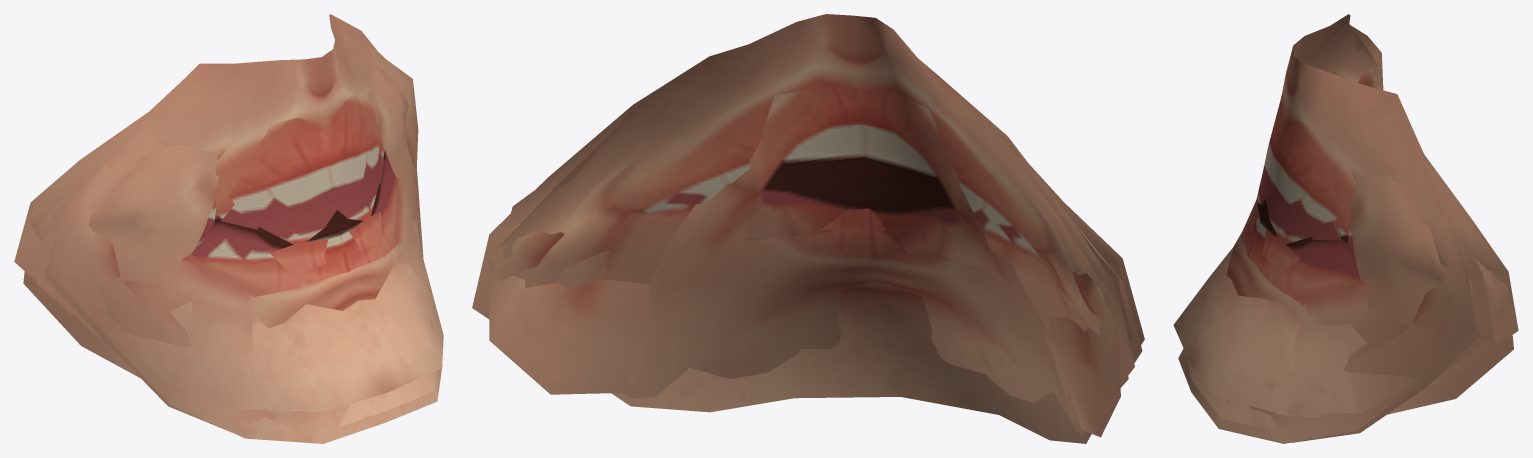
File: mouthshapes.glb
3 views of the same model, side by side, from view 1: azimuth 30°, elevation 25°; view 2: azimuth 150°, elevation 25°; view 3: azimuth 270°, elevation 25° (orthographic). The views are drawn at different scales.
Visible parts, largest first — view 1: porsche_rig:mouthshapes_A, porsche_rig:mouthshapes_TH, porsche_rig:mouthshapes_neutral, porsche_rig:mouthshapes_U, porsche_rig:mouthshapes_EE, porsche_rig:mouthshapes_L, porsche_rig:mouthshapes_BMP, porsche_rig:mouthshapes_O, porsche_rig:mouthshapes_CDGK; view 2: porsche_rig:mouthshapes_U, porsche_rig:mouthshapes_O, porsche_rig:mouthshapes_R, porsche_rig:mouthshapes_TH, porsche_rig:mouthshapes_L, porsche_rig:mouthshapes_neutral, porsche_rig:mouthshapes_EE, porsche_rig:mouthshapes_A, porsche_rig:mouthshapes_CDGK; view 3: porsche_rig:mouthshapes_A, porsche_rig:mouthshapes_TH, porsche_rig:mouthshapes_U, porsche_rig:mouthshapes_neutral, porsche_rig:mouthshapes_EE, porsche_rig:mouthshapes_L, porsche_rig:mouthshapes_BMP, porsche_rig:mouthshapes_CDGK, porsche_rig:mouthshapes_O, porsche_rig:mouthshapes_R.
Part boxes in pixels (bbox=[...]): porsche_rig:mouthshapes_A: bbox=[48, 29, 442, 443]; porsche_rig:mouthshapes_TH: bbox=[23, 14, 405, 411]; porsche_rig:mouthshapes_neutral: bbox=[83, 156, 443, 410]; porsche_rig:mouthshapes_U: bbox=[44, 63, 423, 431]; porsche_rig:mouthshapes_EE: bbox=[14, 14, 376, 384]; porsche_rig:mouthshapes_L: bbox=[36, 14, 443, 408]; porsche_rig:mouthshapes_BMP: bbox=[48, 40, 419, 329]; porsche_rig:mouthshapes_O: bbox=[241, 370, 437, 431]; porsche_rig:mouthshapes_CDGK: bbox=[36, 176, 325, 410]; porsche_rig:mouthshapes_U: bbox=[612, 24, 1142, 443]; porsche_rig:mouthshapes_O: bbox=[622, 104, 1132, 433]; porsche_rig:mouthshapes_R: bbox=[503, 56, 1109, 422]; porsche_rig:mouthshapes_TH: bbox=[489, 22, 1120, 437]; porsche_rig:mouthshapes_L: bbox=[557, 44, 1128, 387]; porsche_rig:mouthshapes_neutral: bbox=[624, 14, 1140, 350]; porsche_rig:mouthshapes_EE: bbox=[472, 57, 1134, 385]; porsche_rig:mouthshapes_A: bbox=[511, 14, 1144, 374]; porsche_rig:mouthshapes_CDGK: bbox=[553, 61, 1133, 360]; porsche_rig:mouthshapes_A: bbox=[1178, 46, 1474, 443]; porsche_rig:mouthshapes_TH: bbox=[1223, 15, 1513, 417]; porsche_rig:mouthshapes_U: bbox=[1250, 26, 1479, 442]; porsche_rig:mouthshapes_neutral: bbox=[1173, 14, 1457, 414]; porsche_rig:mouthshapes_EE: bbox=[1346, 25, 1518, 412]; porsche_rig:mouthshapes_L: bbox=[1283, 14, 1495, 414]; porsche_rig:mouthshapes_BMP: bbox=[1345, 167, 1476, 354]; porsche_rig:mouthshapes_CDGK: bbox=[1296, 233, 1493, 415]; porsche_rig:mouthshapes_O: bbox=[1186, 357, 1282, 432]; porsche_rig:mouthshapes_R: bbox=[1320, 28, 1494, 309].
Bounding box in the file's own units: 0.0904 × 0.0651 × 0.0603.
Materials: 1 (1 with a texture image).
